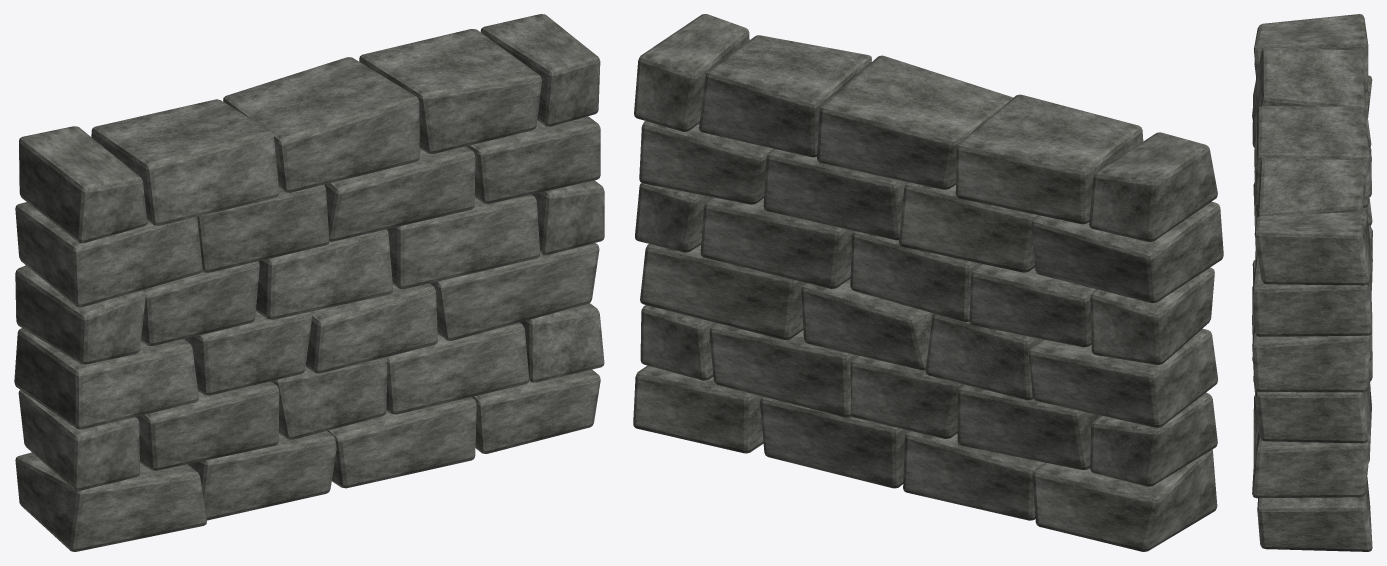
File: 01_Wall_Intact_300.glb
3 views of the same model, side by side, from view 1: azimuth 30°, elevation 25°; view 2: azimuth 150°, elevation 25°; view 3: azimuth 270°, elevation 25° (orthographic). The views are drawn at different scales.
Parts seen in each view (by area): view 1: 01_Wall_Intact_300; view 2: 01_Wall_Intact_300; view 3: 01_Wall_Intact_300.
Boxes of the visible parts, left/top/right/bottom form: 01_Wall_Intact_300: left=14, top=14, right=604, bottom=551; 01_Wall_Intact_300: left=633, top=14, right=1223, bottom=551; 01_Wall_Intact_300: left=1252, top=14, right=1372, bottom=551.
Size of the model in its own units: 3.04 by 2.05 by 0.6973.
1 material, 1 textured.
